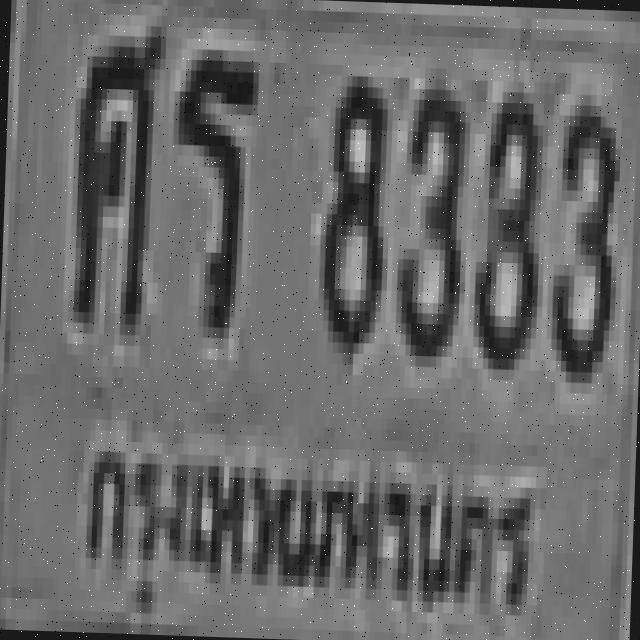3: (392, 71, 464, 352), (544, 93, 616, 373)
44RorRuea: (168, 48, 256, 328)
47SorSala: (67, 13, 162, 324)
8: (467, 80, 539, 360), (316, 64, 384, 343)
Bangkok: (69, 410, 549, 640)
